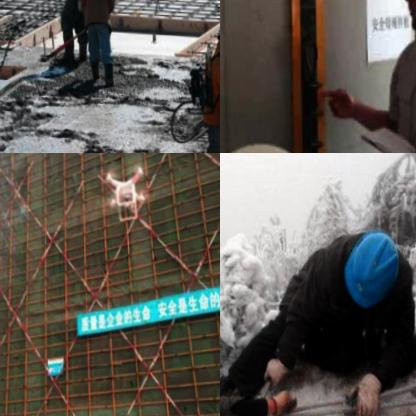helmet: (345, 227, 403, 312), (214, 18, 220, 49)
